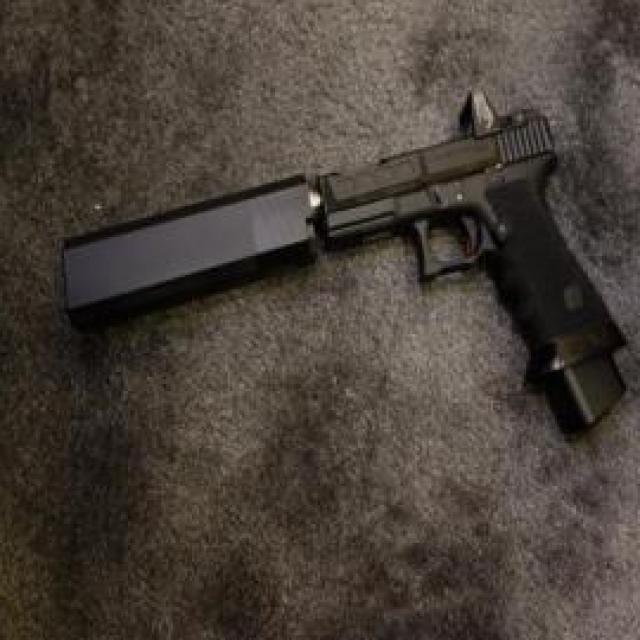pistol: (313, 90, 634, 418)
